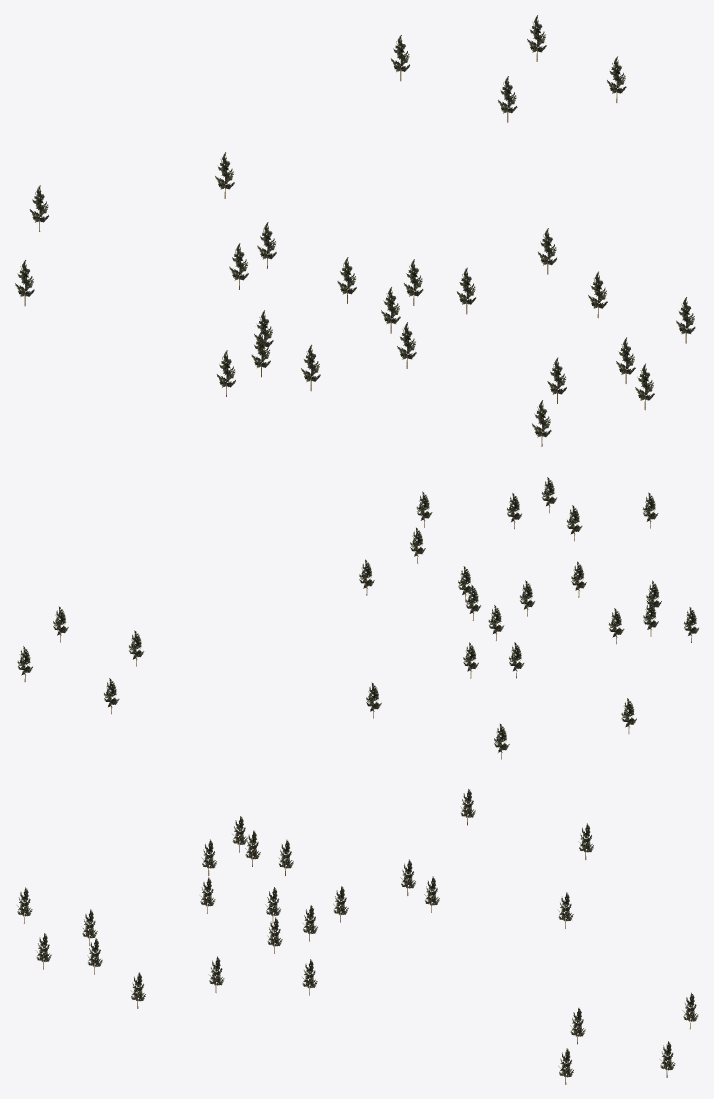
Rendered from TreesIFR.fbx.
3 renders of one model, top to bottom at view 1: azimuth 30°, elevation 25°; view 2: azimuth 150°, elevation 25°; view 3: azimuth 270°, elevation 25°, orthographic. The views are drawn at different scales.
Visible parts, largest first — view 1: Trees1; view 2: Trees1; view 3: Trees1.
Part boxes in pixels (x1=…): Trees1: x1=15, y1=15, x2=695, y2=446; Trees1: x1=17, y1=477, x2=698, y2=759; Trees1: x1=17, y1=789, x2=698, y2=1084.
Size of the model in its own units: 27234 by 1923 by 29444.
2 materials, 2 textured.
